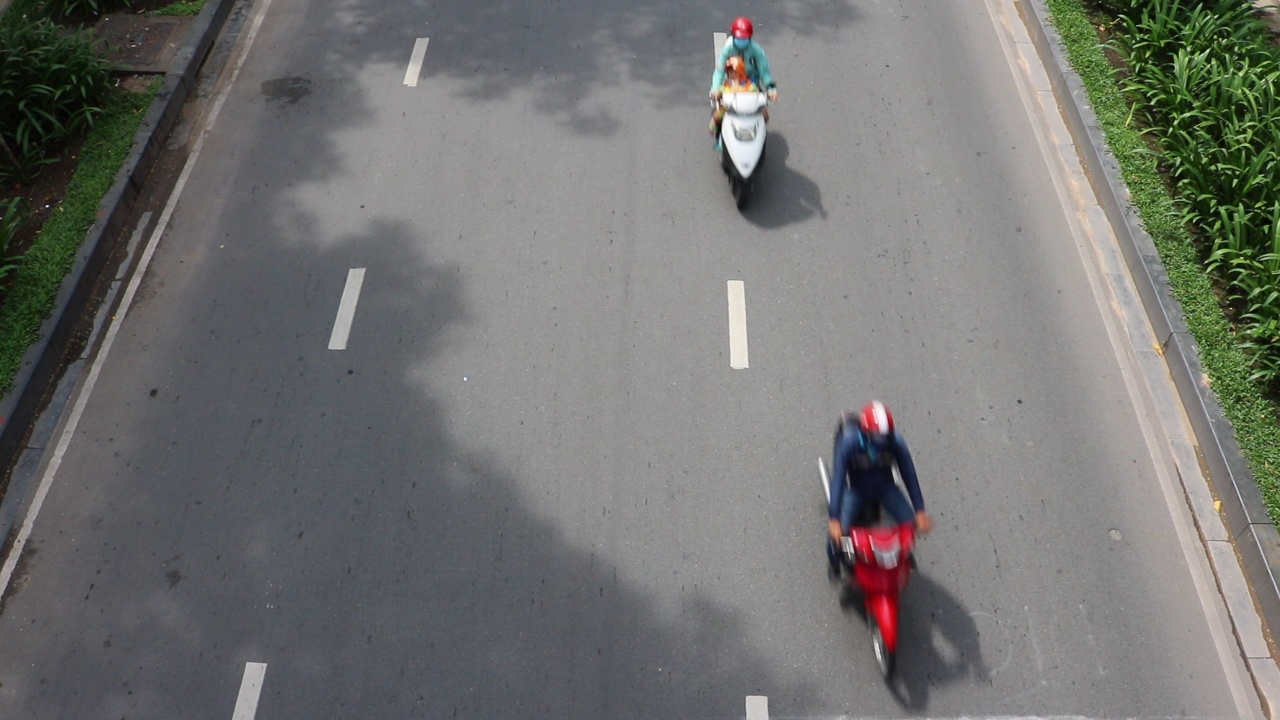motorcycle: (832, 515, 931, 682), (713, 87, 775, 208)
